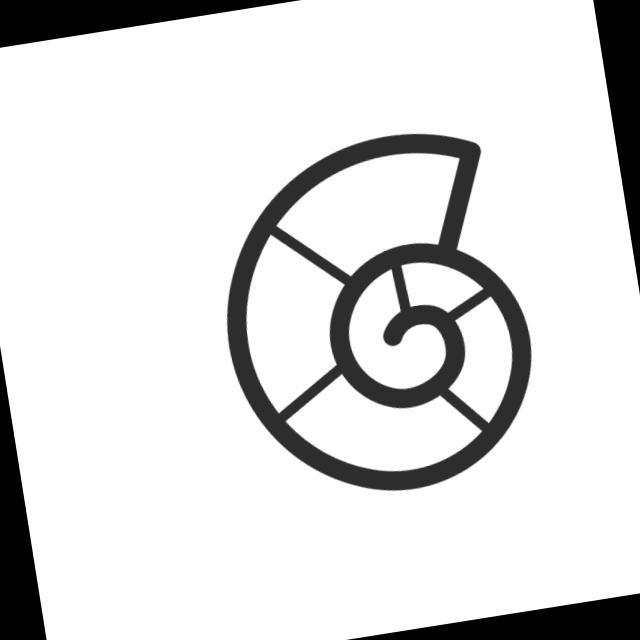fossil: (196, 113, 559, 522)
